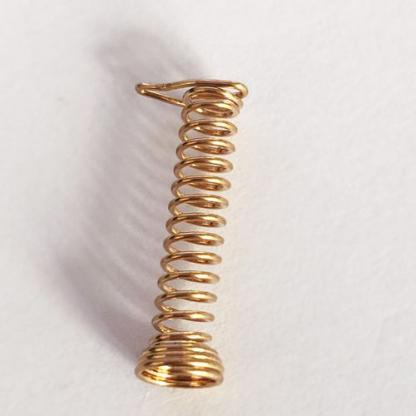FOD: (132, 75, 250, 391)
